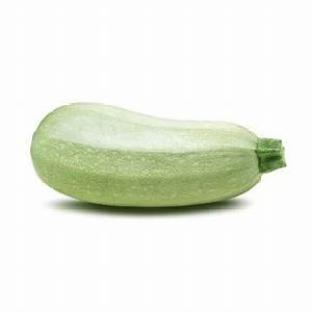Zucchini: (32, 103, 284, 205)
